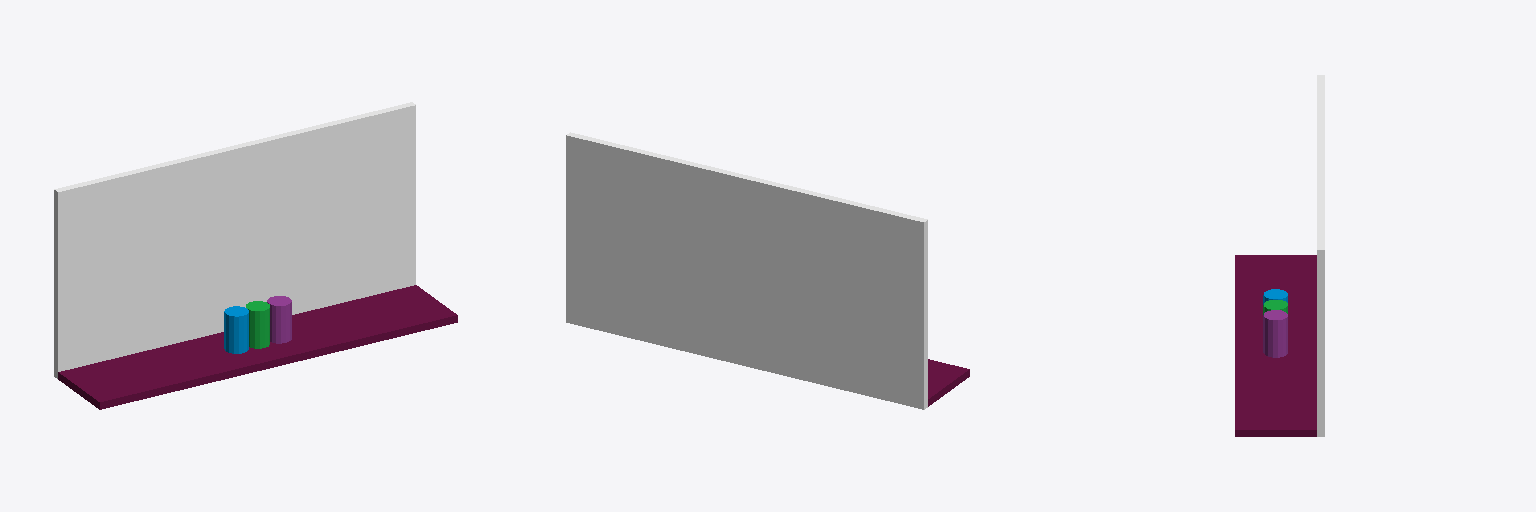
Rendered from cans-shelf-3.obj.
3 views of the same model, side by side, from view 1: azimuth 30°, elevation 25°; view 2: azimuth 150°, elevation 25°; view 3: azimuth 270°, elevation 25° (orthographic).
Parts seen in each view (by area): view 1: Object.2, Object.1, Object.5, Object.3, Object.4; view 2: Object.2, Object.1; view 3: Object.1, Object.2, Object.3.
Boxes of the visible parts, <box> form: Object.2: <box>54,102,415,378</box>; Object.1: <box>58,285,457,409</box>; Object.5: <box>224,306,248,353</box>; Object.3: <box>267,296,291,343</box>; Object.4: <box>246,301,269,348</box>; Object.2: <box>566,132,927,409</box>; Object.1: <box>928,359,969,406</box>; Object.1: <box>1235,255,1316,436</box>; Object.2: <box>1317,75,1324,436</box>; Object.3: <box>1263,310,1287,357</box>.
Bounding box in the file's own units: 1000 × 500 × 220.